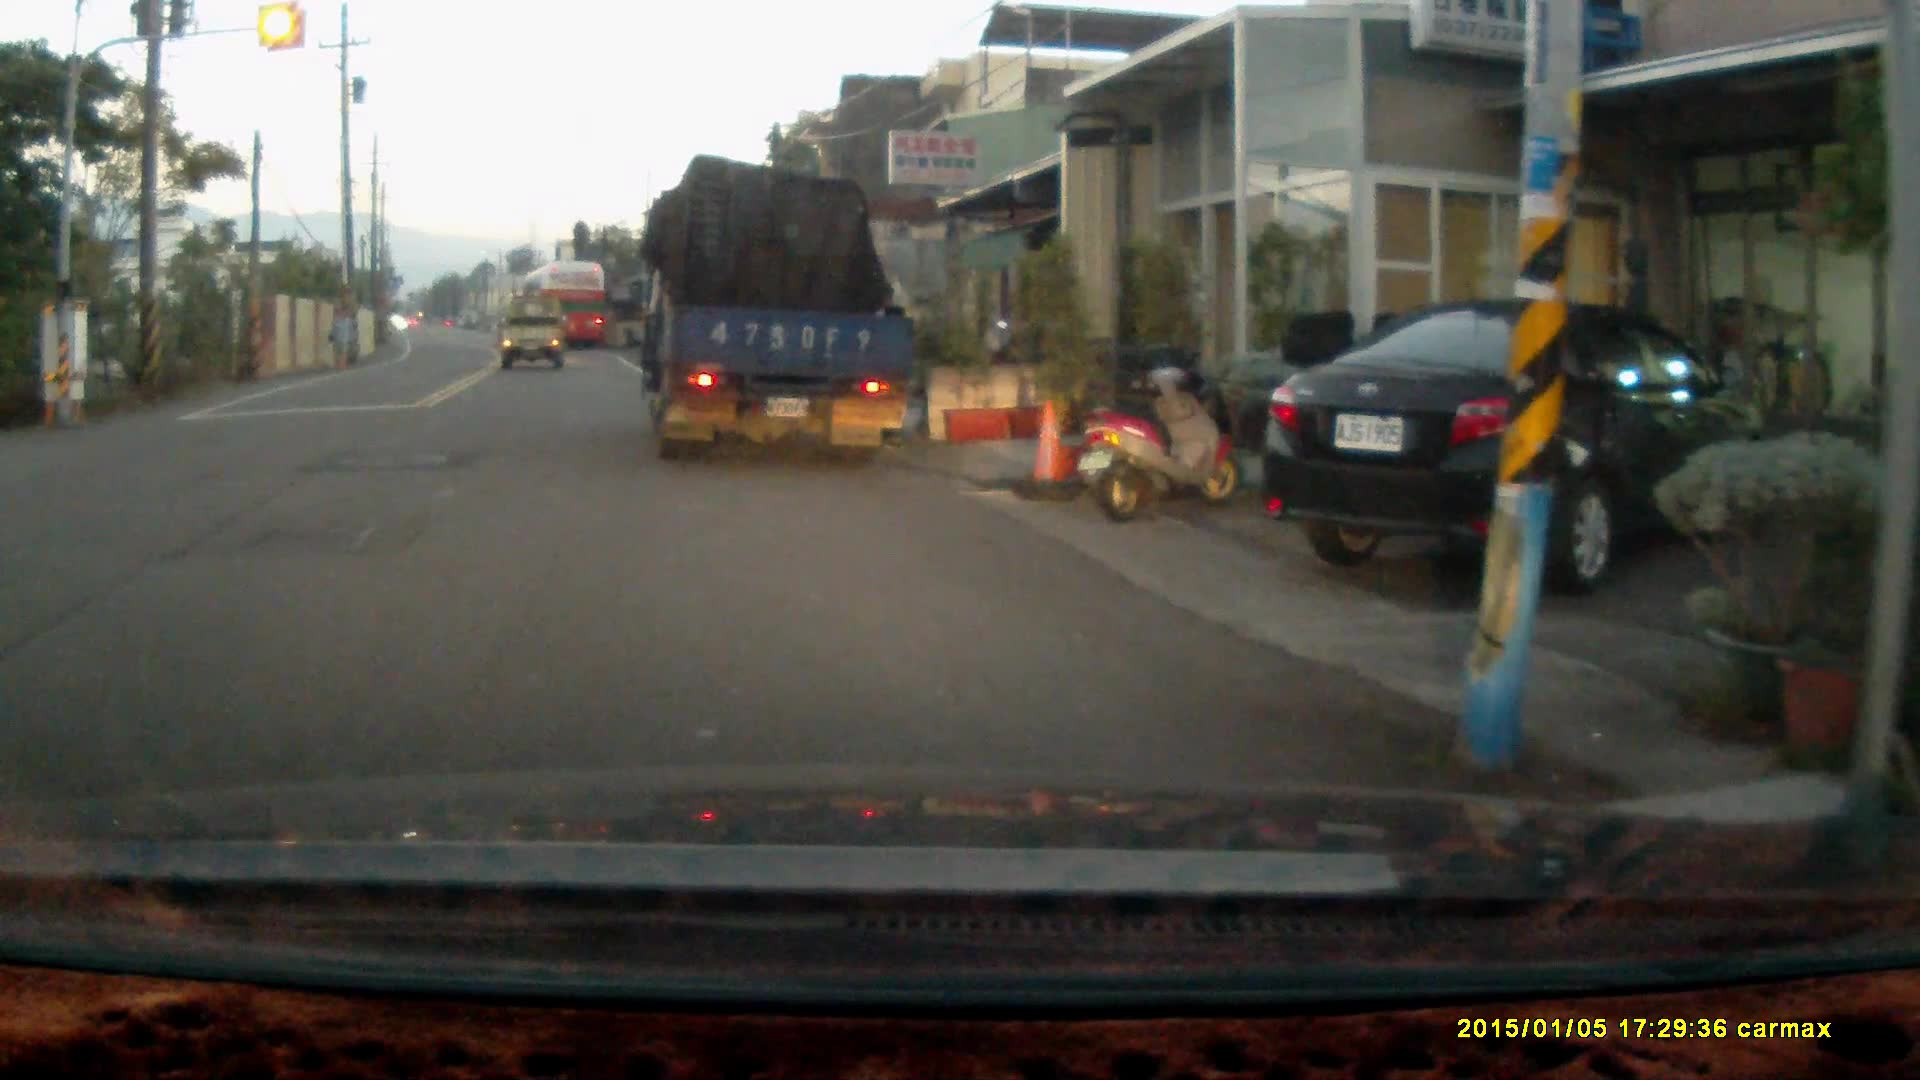pedestrian: (329, 303, 360, 371)
vehicle: (1252, 289, 1771, 592), (640, 160, 925, 458), (520, 263, 614, 358), (501, 297, 570, 372)
